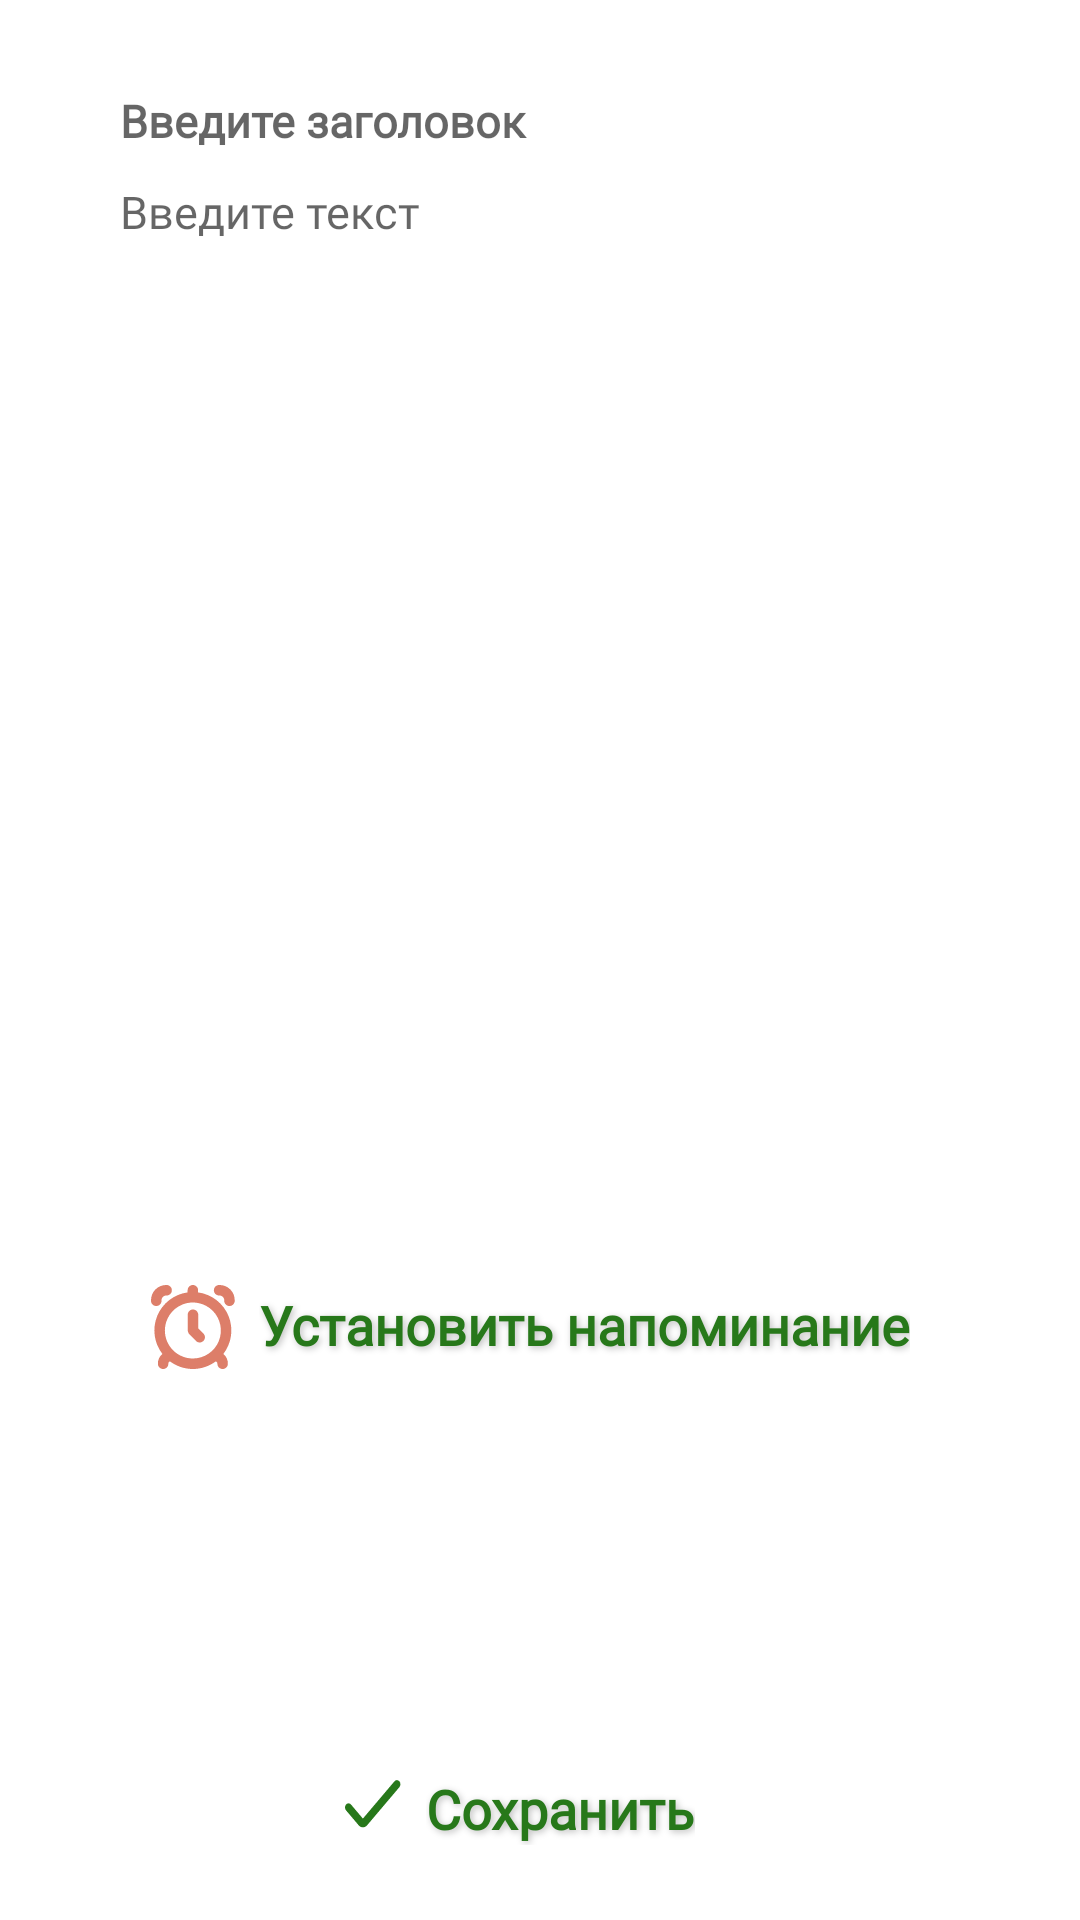

Icons on this 1080w x 1920h Android screen, each with its box as (x1, y1, x2, y2):
choice: (345, 1780, 401, 1828)
clock: (151, 1285, 235, 1369)
